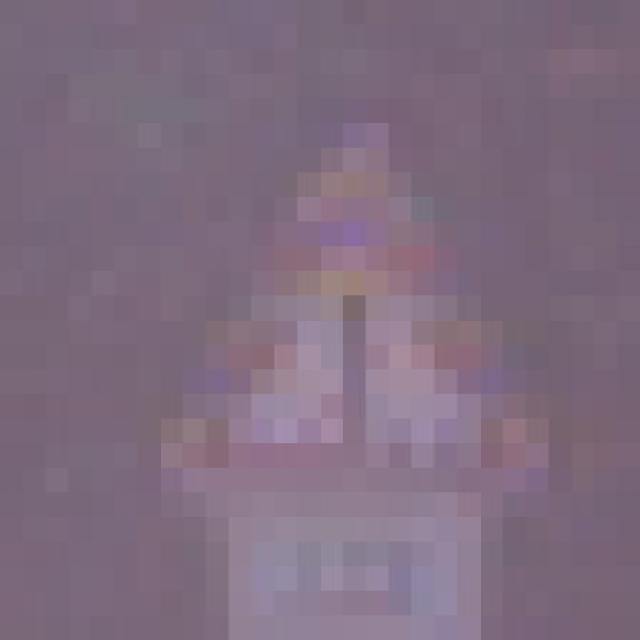Attention Please-: (114, 113, 572, 507)
